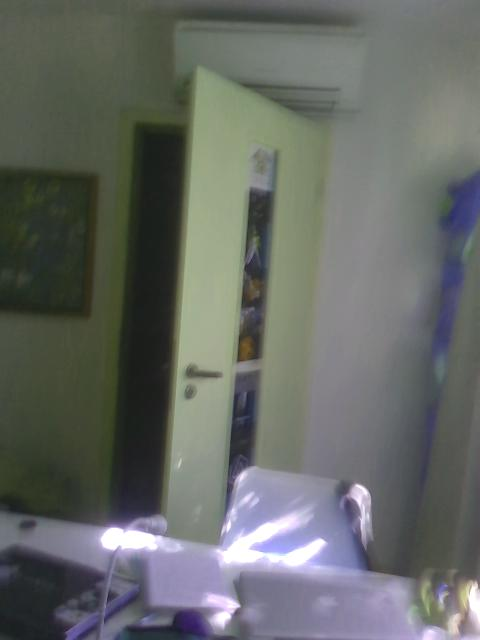semi_door: (92, 61, 330, 630)
